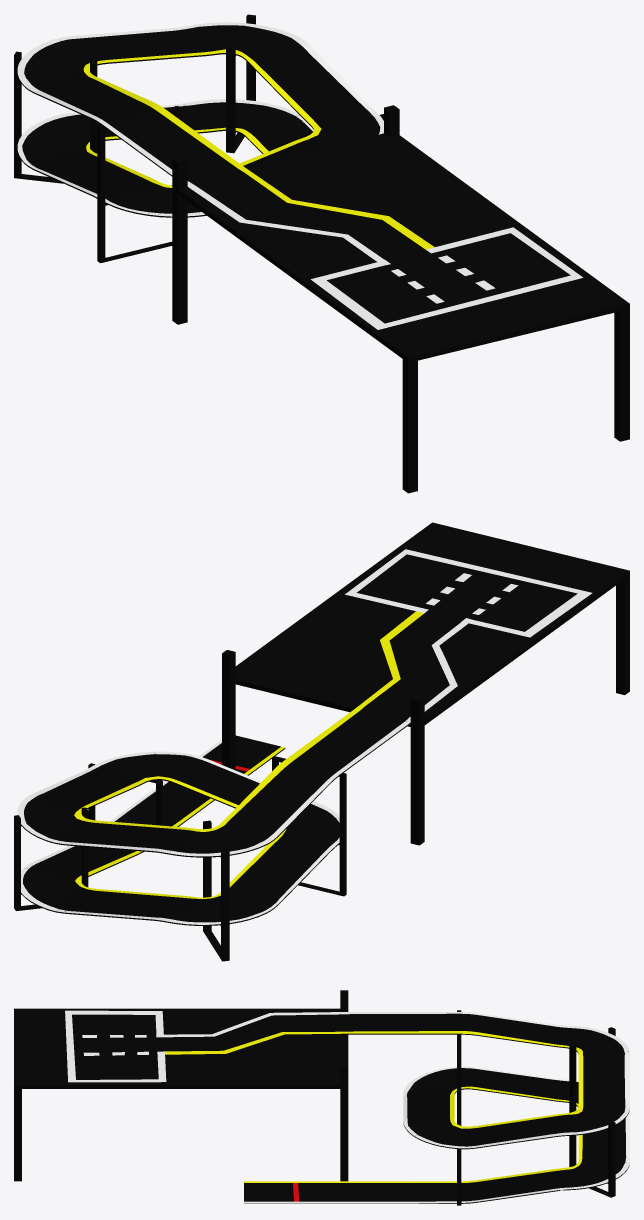
The model's file is ramp.dae.
The picture shows the model from 3 angles, top to bottom: view 1: azimuth 30°, elevation 25°; view 2: azimuth 150°, elevation 25°; view 3: azimuth 270°, elevation 25°; orthographic projection. The views are drawn at different scales.
Parts seen in each view (by area): view 1: Assem complete ramp; view 2: Assem complete ramp; view 3: Assem complete ramp.
Boxes of the visible parts, x1,y1,x2,y2 form: Assem complete ramp: [14, 14, 629, 493]; Assem complete ramp: [14, 522, 629, 961]; Assem complete ramp: [14, 990, 629, 1205].
Size of the model in its own units: 1.19 by 3.06 by 0.6261.
